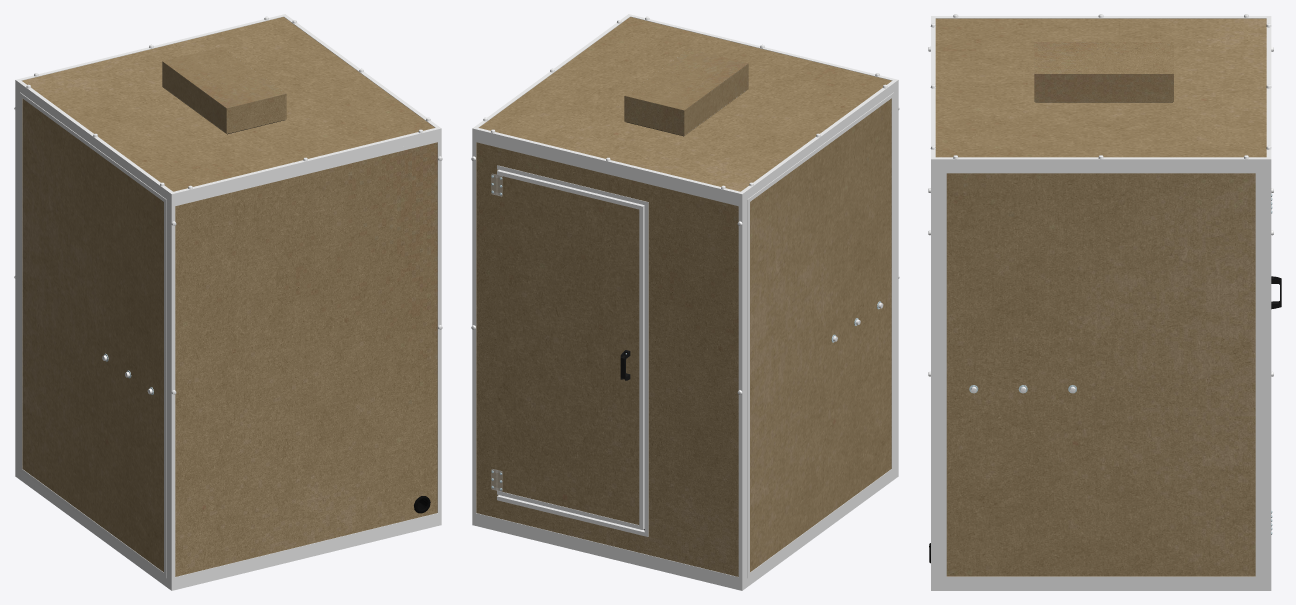
Rendered from danbocchi_wide-v6stl_m2-lowply_joint.fbx.
The picture shows the model from 3 angles, left to right: view 1: azimuth 30°, elevation 25°; view 2: azimuth 150°, elevation 25°; view 3: azimuth 270°, elevation 25°; orthographic projection. The views are drawn at different scales.
Parts seen in each view (by area): view 1: d6w RearPanel, d6w RightPanel, d6w RoofPanel, d6w Silencer, d6w FloorPanel, d6w FrontPanel; view 2: d6w FrontPanel, d6w RightPanel, d6w DoorPanel, d6w RoofPanel, d6w Silencer, d6w FloorPanel, d6w RearPanel; view 3: d6w LeftPanel, d6w RoofPanel, d6w Silencer, d6w FrontPanel, d6w RearPanel, d6w FloorPanel.
Part boxes in pixels (left/top/right/bottom): d6w RearPanel: left=166, top=137, right=442, bottom=581; d6w RightPanel: left=20, top=92, right=166, bottom=578; d6w RoofPanel: left=15, top=14, right=441, bottom=202; d6w Silencer: left=162, top=46, right=286, bottom=134; d6w FloorPanel: left=15, top=468, right=441, bottom=590; d6w FrontPanel: left=14, top=89, right=19, bottom=470; d6w FrontPanel: left=471, top=137, right=747, bottom=581; d6w RightPanel: left=747, top=92, right=893, bottom=578; d6w DoorPanel: left=497, top=169, right=644, bottom=529; d6w RoofPanel: left=472, top=14, right=898, bottom=202; d6w Silencer: left=624, top=49, right=748, bottom=136; d6w FloorPanel: left=472, top=468, right=898, bottom=590; d6w RearPanel: left=894, top=89, right=899, bottom=470; d6w LeftPanel: left=942, top=169, right=1260, bottom=581; d6w RoofPanel: left=930, top=14, right=1271, bottom=169; d6w Silencer: left=1034, top=42, right=1173, bottom=102; d6w FrontPanel: left=1260, top=47, right=1273, bottom=581; d6w RearPanel: left=928, top=46, right=941, bottom=581; d6w FloorPanel: left=931, top=581, right=1271, bottom=590.
Size of the model in its own units: 110 by 161 by 112.
